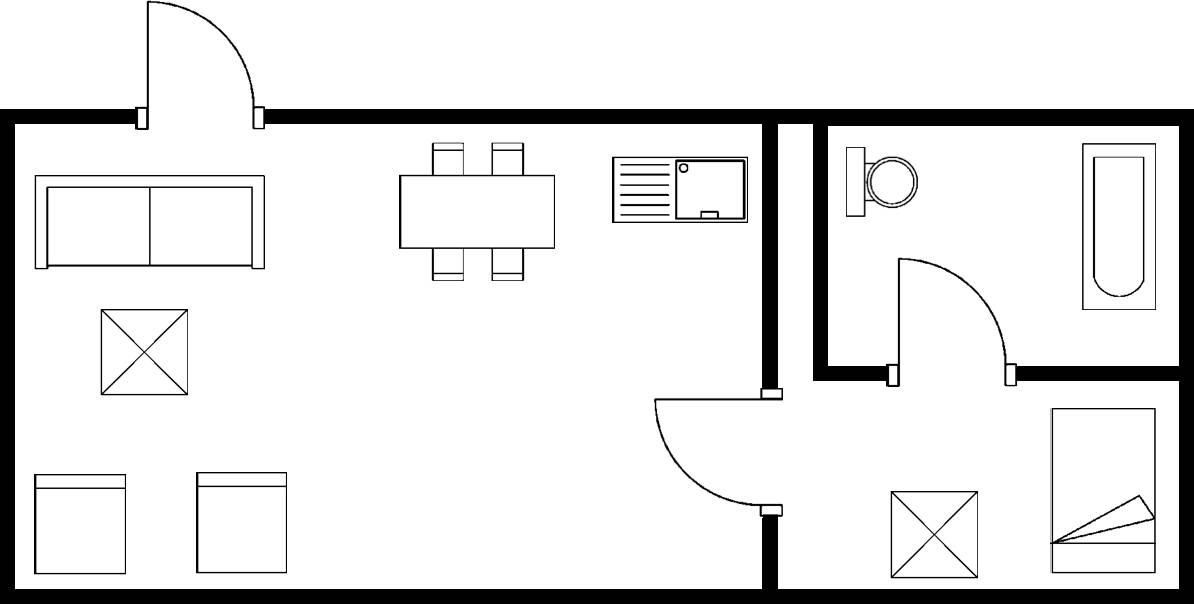bed: (1044, 400, 1162, 580)
coffee_table: (883, 481, 987, 584), (96, 305, 195, 402)
dining_table: (391, 137, 563, 291)
large_sink: (839, 140, 923, 222)
large_sofa: (29, 168, 273, 275)
sink: (605, 147, 755, 231)
small_sofa: (25, 466, 136, 580), (189, 466, 295, 583)
tub: (1075, 138, 1162, 317)
